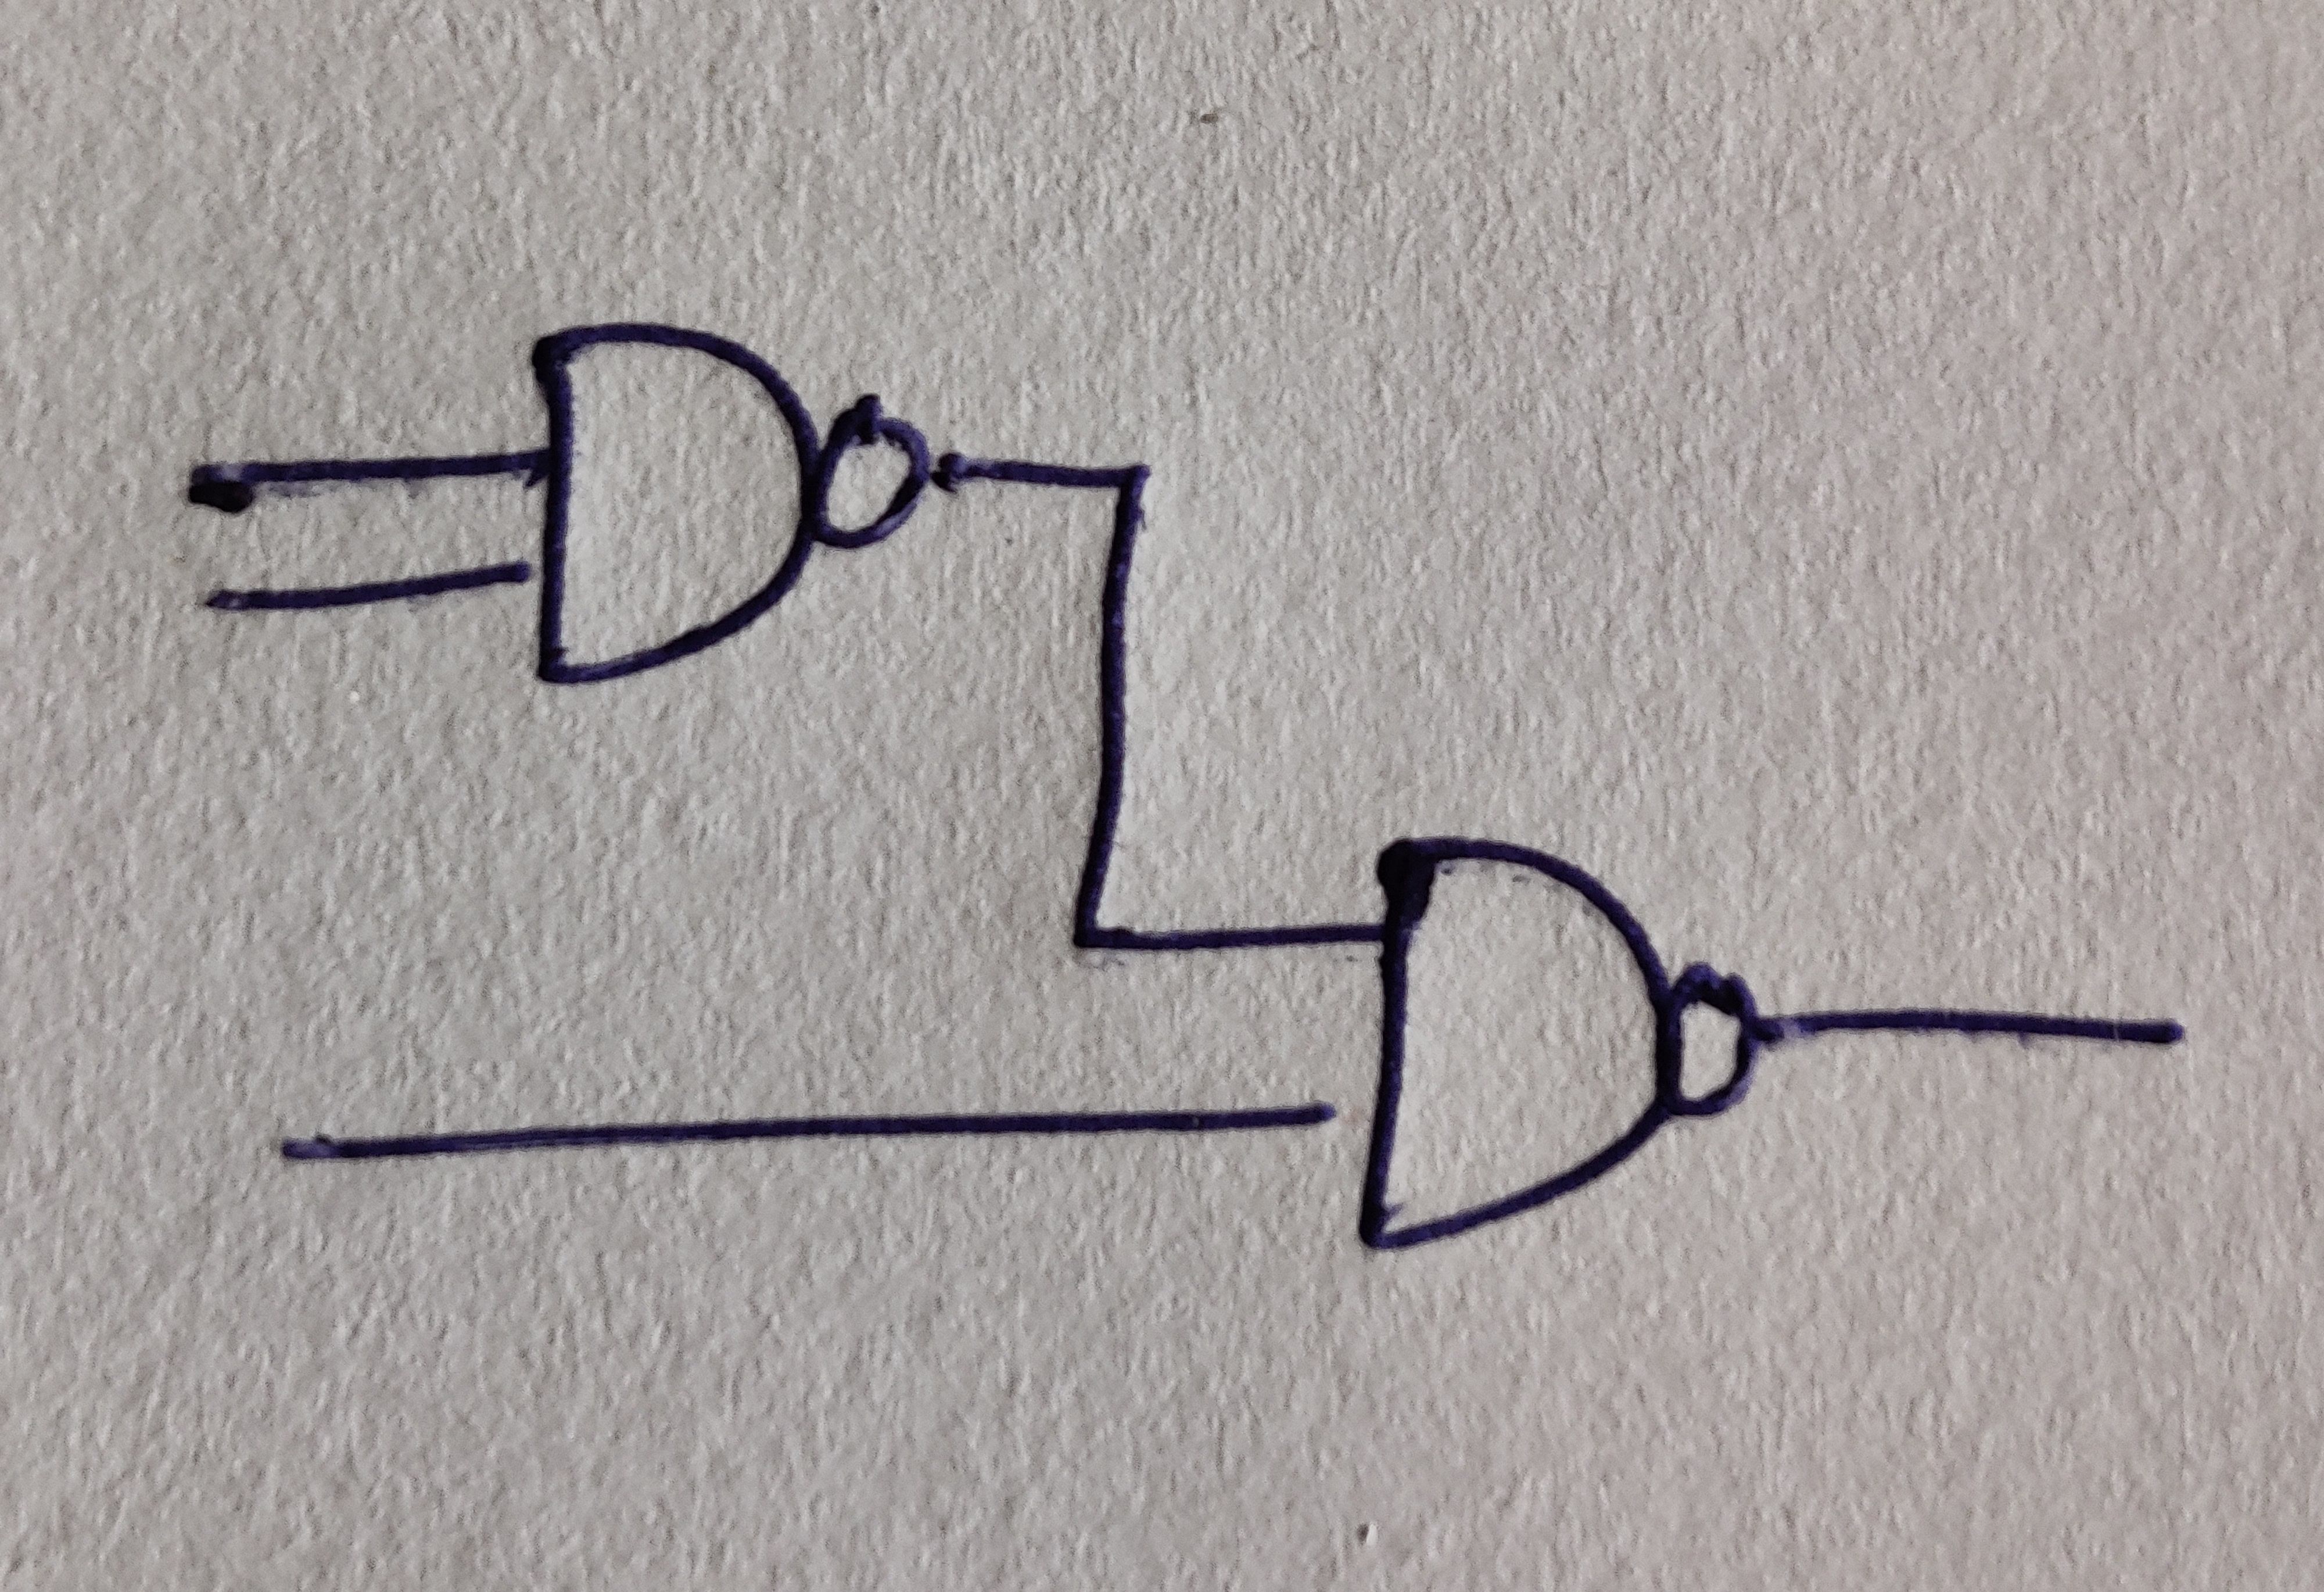and: (1358, 839, 1683, 1251), (530, 323, 821, 686)
not: (818, 392, 927, 548), (1672, 965, 1759, 1118)
